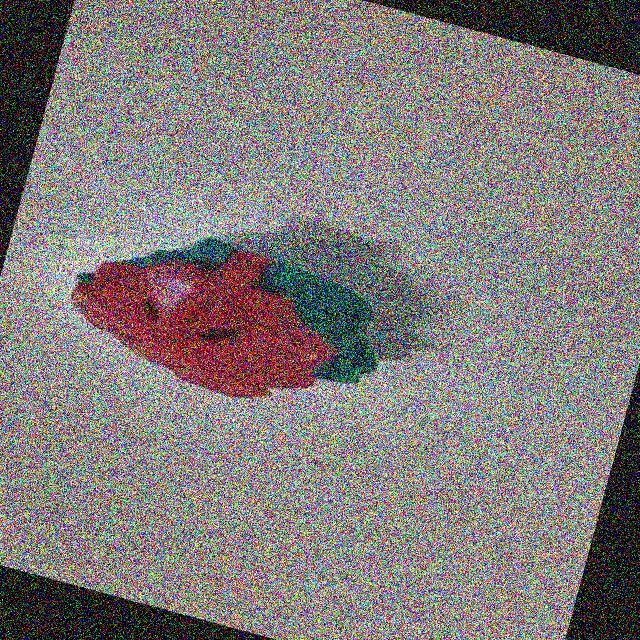House: (43, 199, 408, 433)
